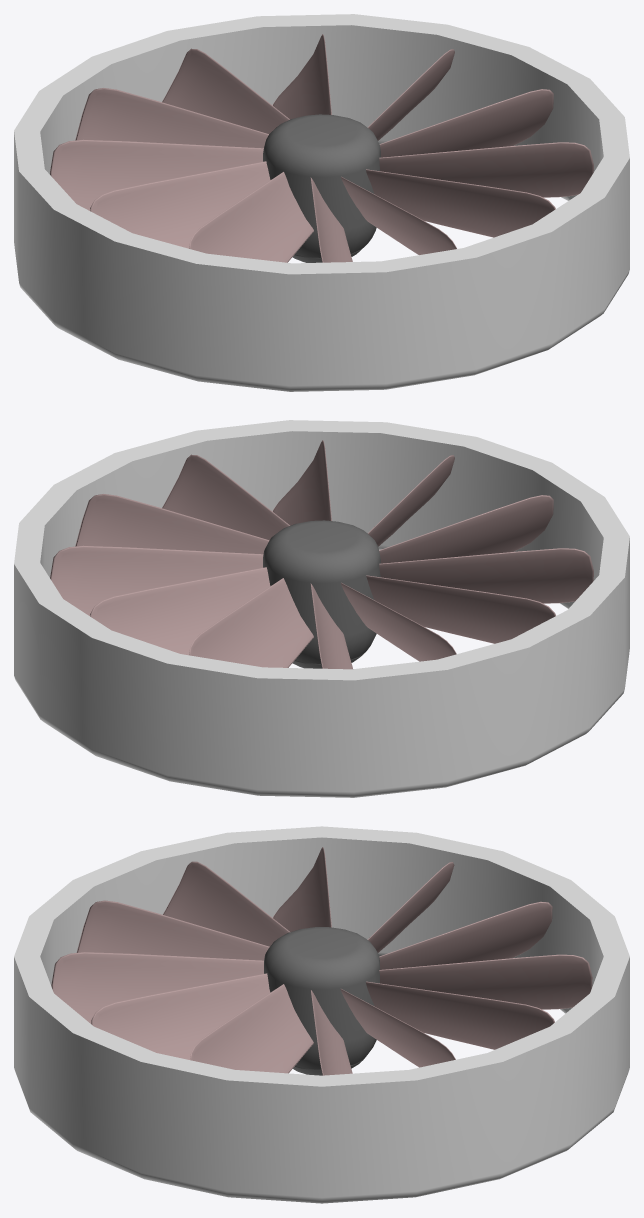
Rendered from Fan.fbx.
3 views of the same model, one above another, from view 1: azimuth 30°, elevation 25°; view 2: azimuth 150°, elevation 25°; view 3: azimuth 270°, elevation 25° (orthographic).
Parts seen in each view (by area): view 1: Fan_Frame, Fan_Center, Fan6, Fan7, Fan, Fan11, Fan5, Fan8, Fan1, Fan4, Fan10, Fan3 (+2 smaller); view 2: Fan_Frame, Fan_Center, Fan2, Fan3, Fan8, Fan7, Fan1, Fan4, Fan9, Fan, Fan6, Fan11 (+2 smaller); view 3: Fan_Frame, Fan_Center, Fan10, Fan11, Fan4, Fan3, Fan9, Fan, Fan5, Fan8, Fan2, Fan7 (+2 smaller).
Boxes of the visible parts, <box> form: Fan_Frame: <box>14,14,629,391</box>; Fan_Center: <box>263,114,380,262</box>; Fan6: <box>50,139,263,210</box>; Fan7: <box>90,161,270,248</box>; Fan: <box>379,142,593,197</box>; Fan11: <box>366,169,555,237</box>; Fan5: <box>75,88,268,148</box>; Fan8: <box>189,172,313,262</box>; Fan1: <box>379,89,553,157</box>; Fan4: <box>162,48,289,133</box>; Fan10: <box>341,176,456,254</box>; Fan3: <box>272,34,331,119</box>; Fan_Frame: <box>14,420,629,797</box>; Fan_Center: <box>263,520,380,668</box>; Fan2: <box>50,545,263,616</box>; Fan3: <box>90,567,270,655</box>; Fan8: <box>379,548,593,603</box>; Fan7: <box>366,575,555,643</box>; Fan1: <box>75,494,269,554</box>; Fan4: <box>189,578,313,667</box>; Fan9: <box>379,495,553,563</box>; Fan: <box>162,454,289,540</box>; Fan6: <box>341,582,456,661</box>; Fan11: <box>272,440,331,525</box>; Fan_Frame: <box>14,826,629,1203</box>; Fan_Center: <box>264,927,379,1075</box>; Fan10: <box>51,952,263,1024</box>; Fan11: <box>91,973,270,1059</box>; Fan4: <box>379,954,592,1009</box>; Fan3: <box>366,981,554,1049</box>; Fan9: <box>76,900,269,960</box>; Fan: <box>190,984,313,1073</box>; Fan5: <box>379,901,552,969</box>; Fan8: <box>163,861,290,946</box>; Fan2: <box>340,989,455,1067</box>; Fan7: <box>273,847,331,931</box>.
Size of the model in its own units: 2.19 by 0.521 by 2.19.
